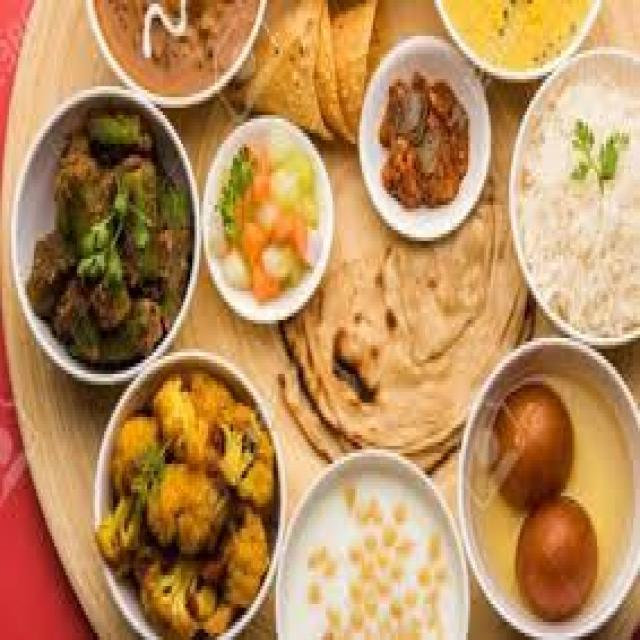curd: (275, 464, 464, 640)
dal: (440, 0, 601, 77)
papad: (254, 0, 416, 138)
raita: (272, 466, 463, 640)
sweet: (472, 356, 625, 618), (194, 120, 334, 317), (359, 49, 491, 231), (79, 0, 266, 103)
